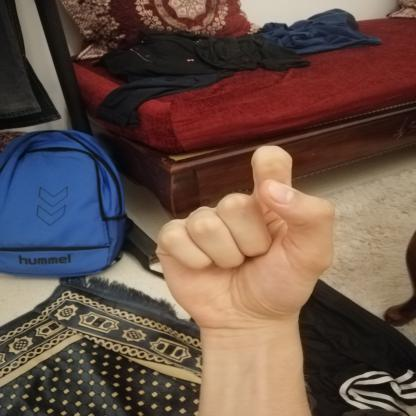FAA: (141, 134, 350, 342)
